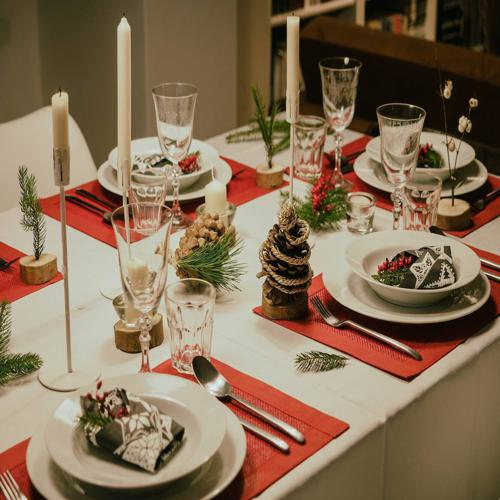copa: (109, 204, 171, 372), (150, 86, 197, 227), (377, 105, 426, 230), (317, 56, 358, 193)
vaso: (163, 281, 216, 377), (289, 115, 325, 183), (403, 173, 438, 236), (348, 190, 375, 235)
